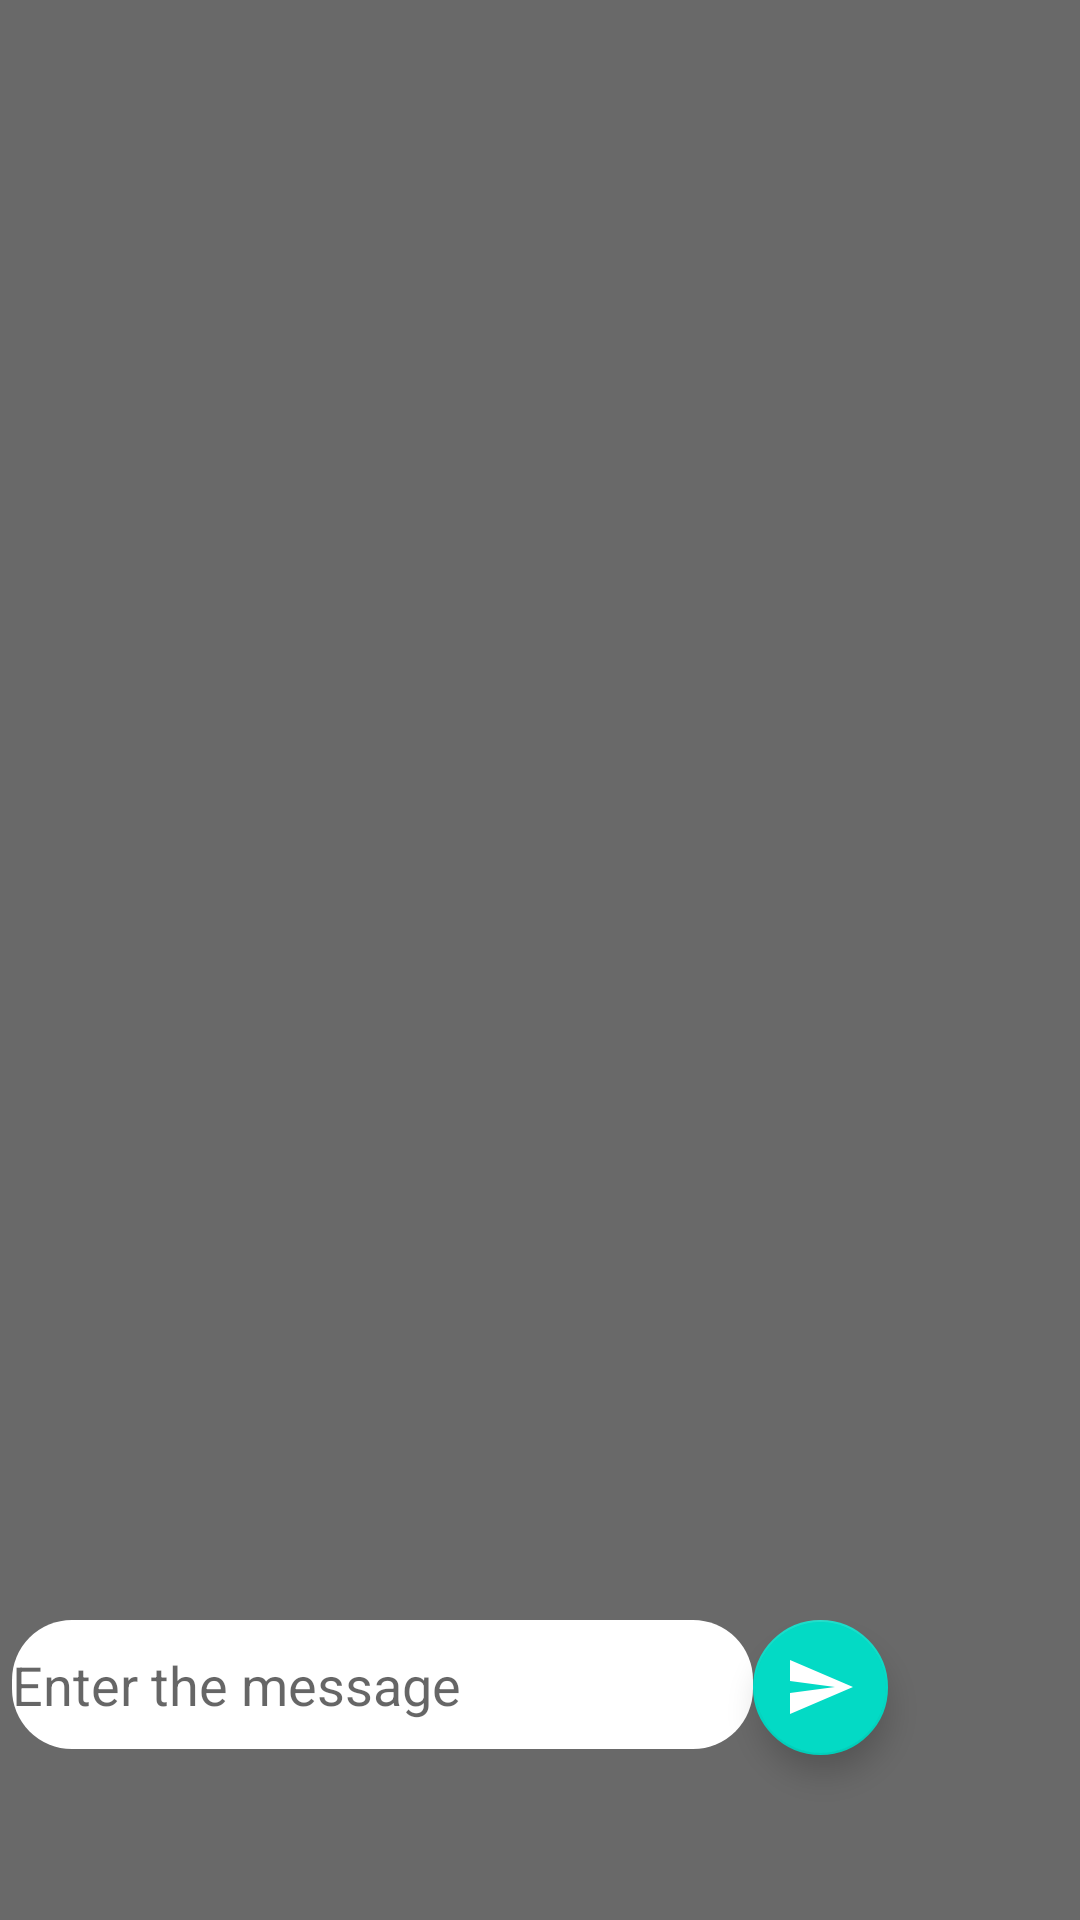

Icon bounding boxes for this 1080px x 1920px phone screenshot, format box(x1, y1, x2, y2):
Sending the message: box(753, 1620, 888, 1755)
